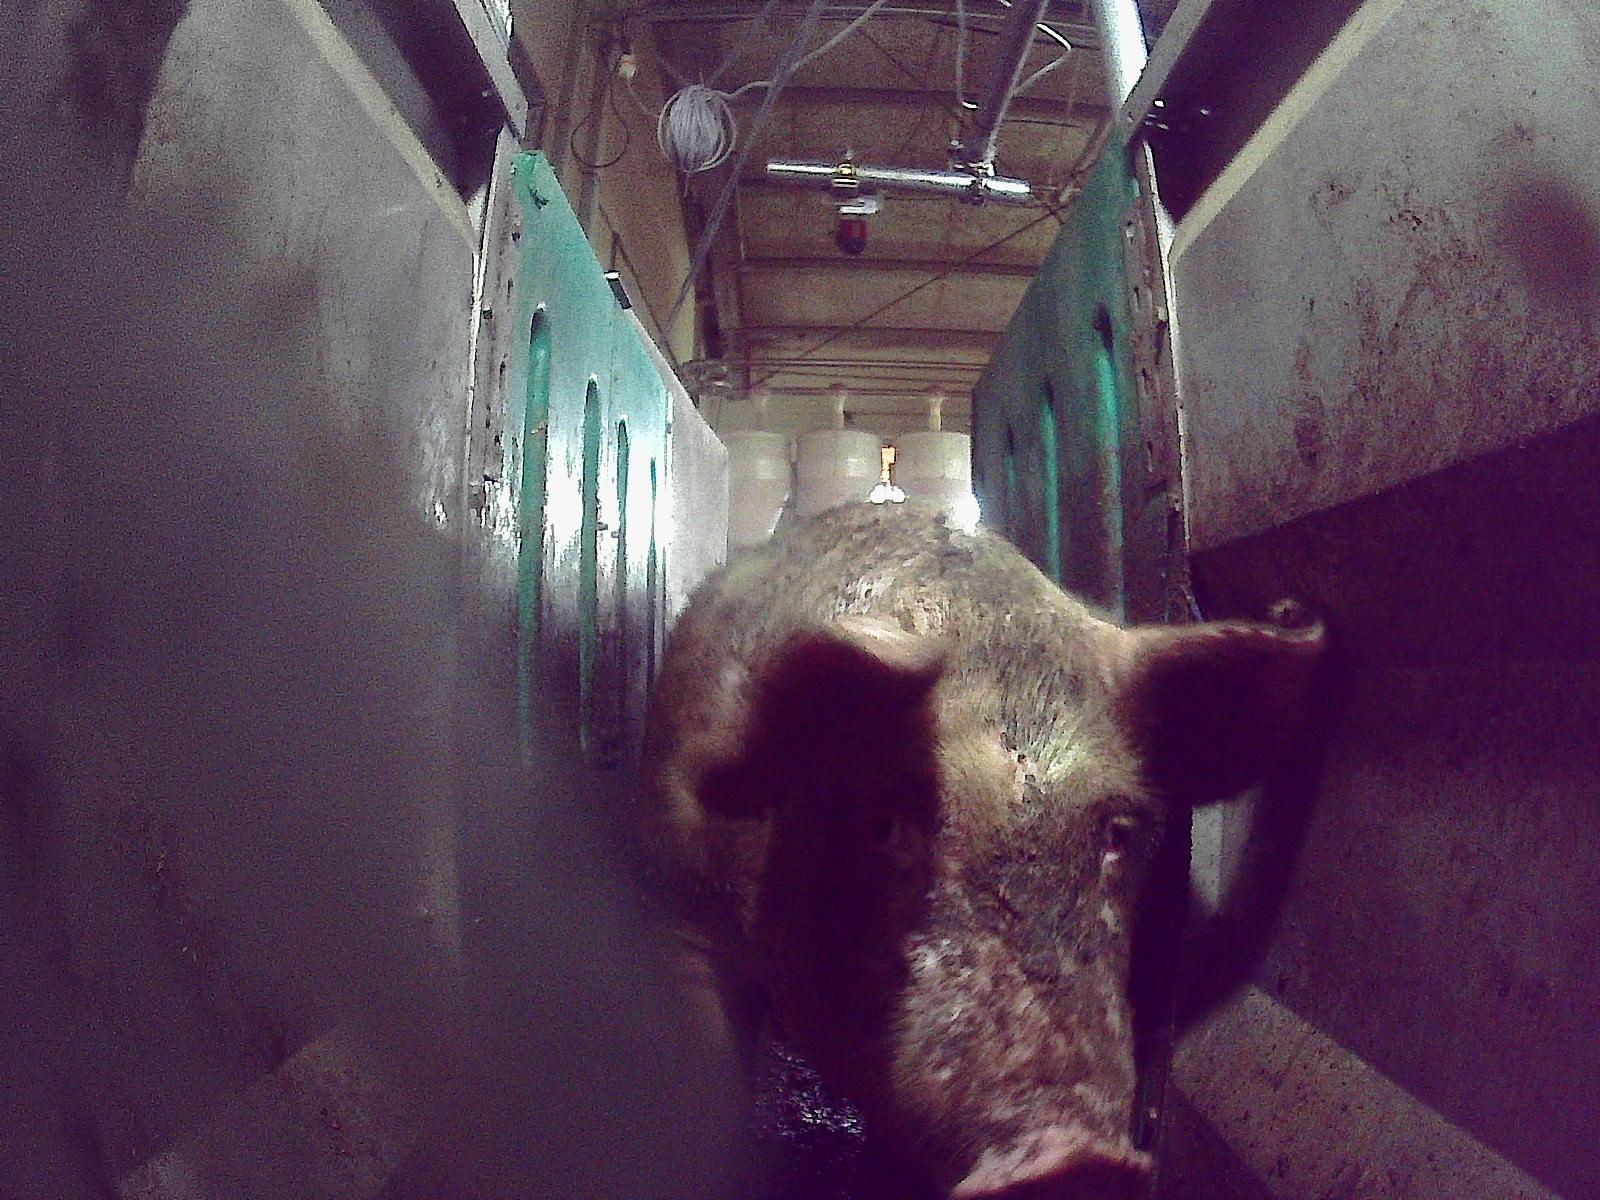Face: (775, 611, 1167, 1199)
